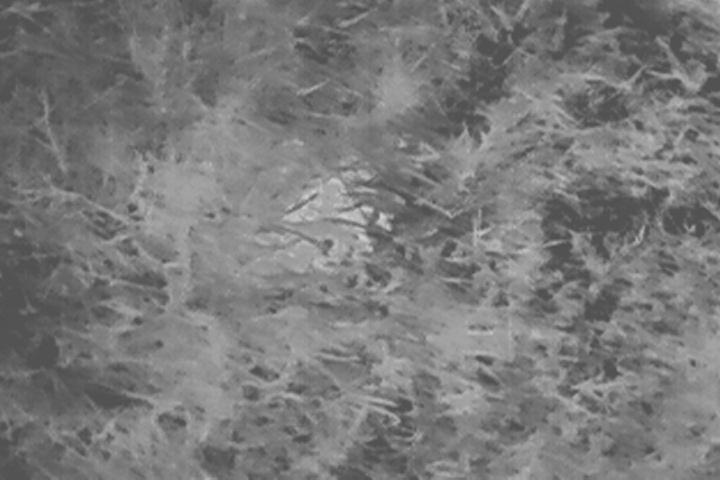landmine: (239, 146, 396, 285)
